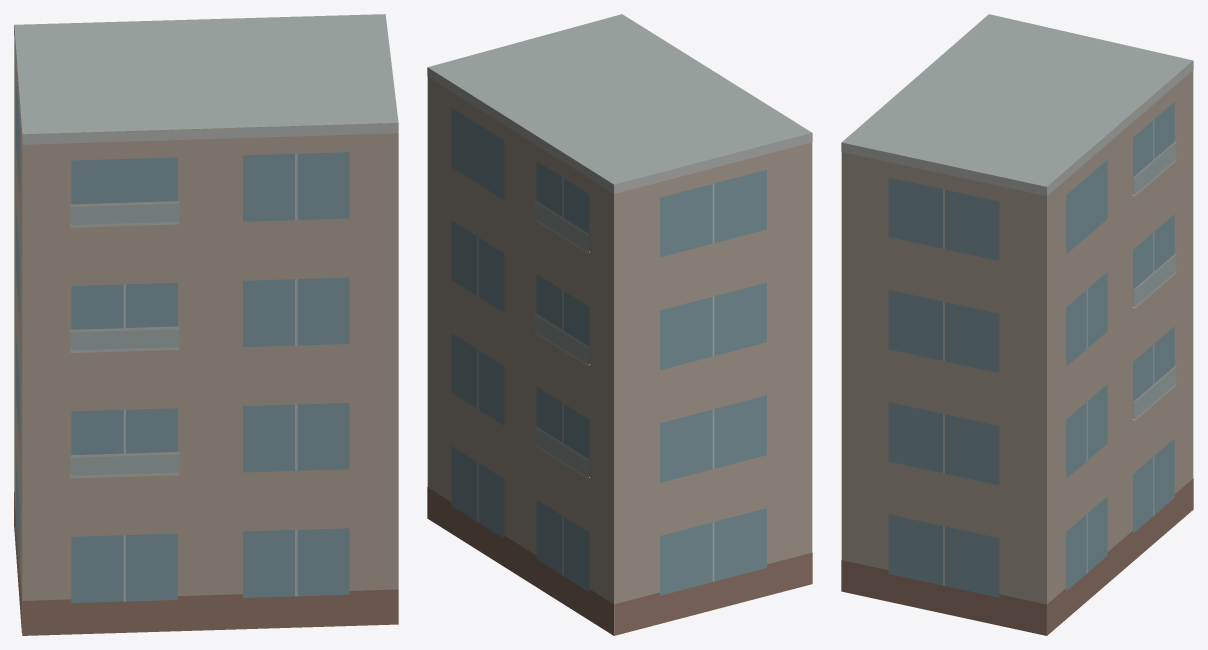
The model's file is survey-upis-32727047.glb.
3 views of the same model, side by side, from view 1: azimuth 30°, elevation 25°; view 2: azimuth 150°, elevation 25°; view 3: azimuth 270°, elevation 25° (orthographic). The views are drawn at different scales.
Visible parts, largest first — view 1: survey-upis-32727047.tmp; view 2: survey-upis-32727047.tmp; view 3: survey-upis-32727047.tmp.
Part boxes in pixels (x1,y1,x2,y2): survey-upis-32727047.tmp: (14,14,398,635); survey-upis-32727047.tmp: (427,14,812,635); survey-upis-32727047.tmp: (841,14,1193,635).
Size of the model in its own units: 9.67 by 11.7 by 8.32.
